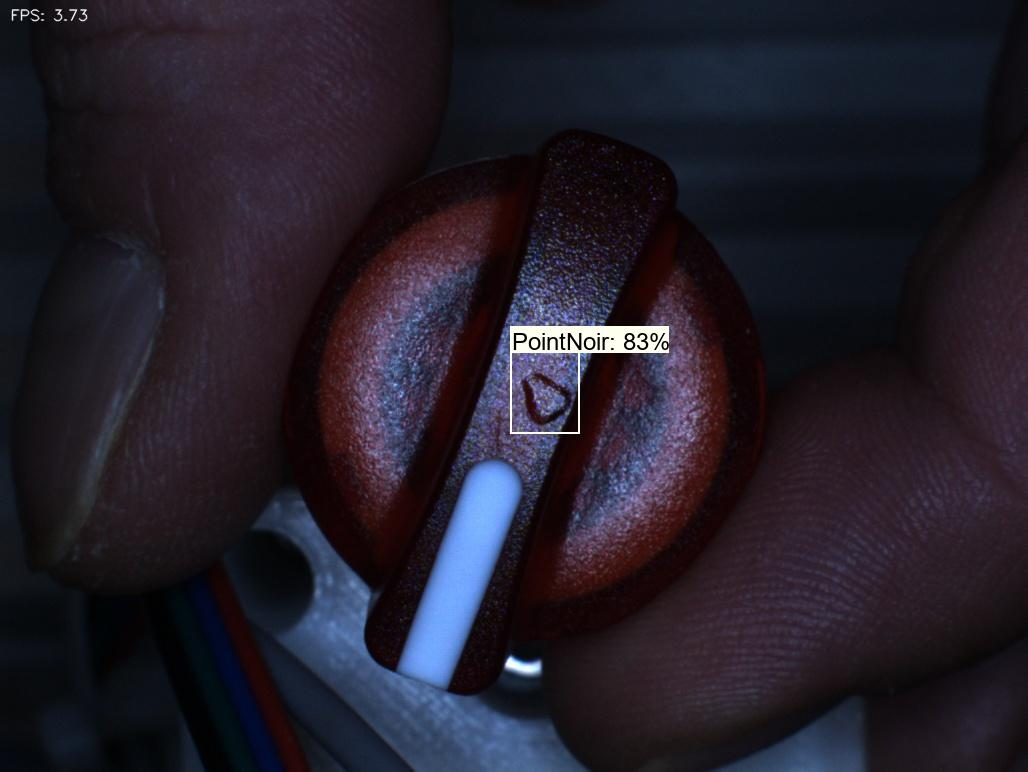Choc: (505, 363, 587, 451)
